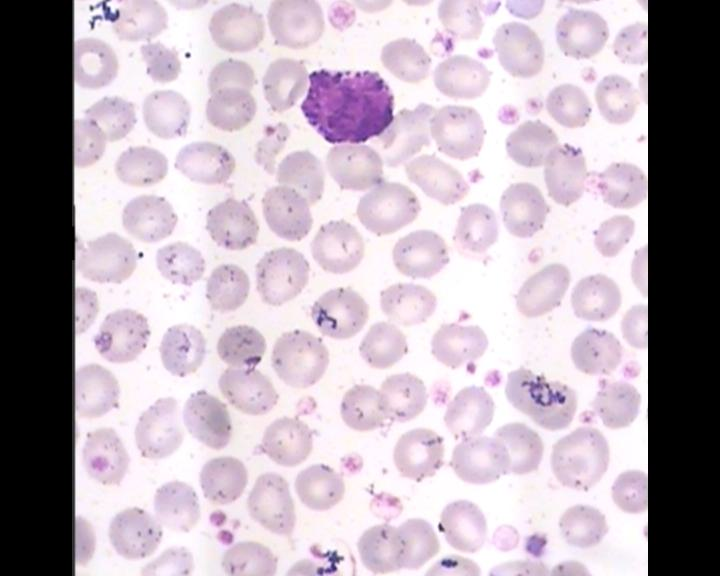baso: (295, 63, 398, 148)
